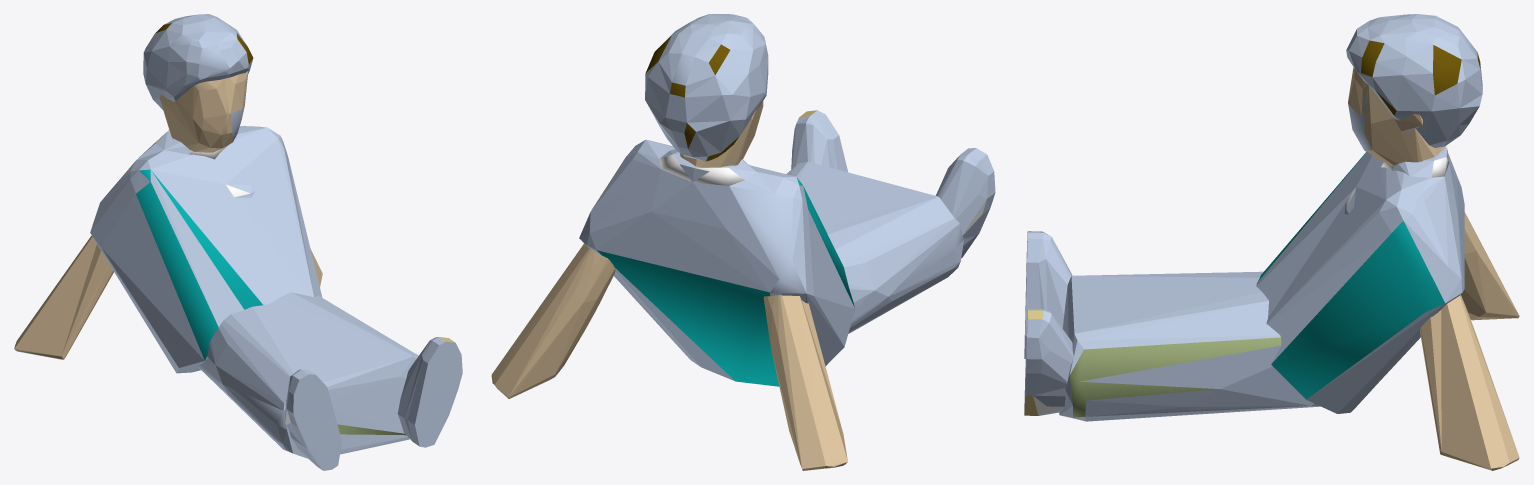
3 renders of one model, left to right at view 1: azimuth 30°, elevation 25°; view 2: azimuth 150°, elevation 25°; view 3: azimuth 270°, elevation 25°, orthographic. The views are drawn at different scales.
Visible parts, largest first — view 1: SketchUp.015; view 2: SketchUp.015; view 3: SketchUp.015.
Part boxes in pixels (<box>): SketchUp.015: <box>14,14,462,470</box>; SketchUp.015: <box>491,14,995,470</box>; SketchUp.015: <box>1024,14,1519,470</box>.
Size of the model in its own units: 0.5802 by 0.7057 by 0.5844.
